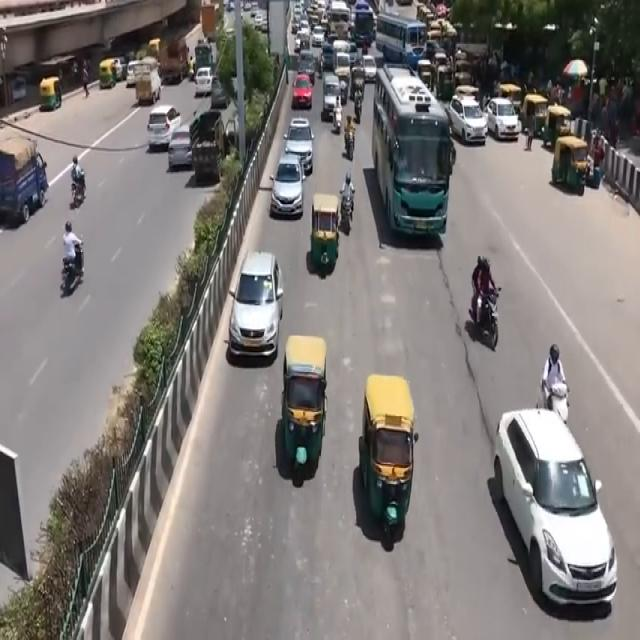BUS: (373, 67, 456, 242), (372, 9, 426, 67)
MOTORCYCLE: (62, 237, 85, 300), (481, 289, 503, 352), (342, 195, 356, 237)
TRUCK: (133, 61, 162, 108)
